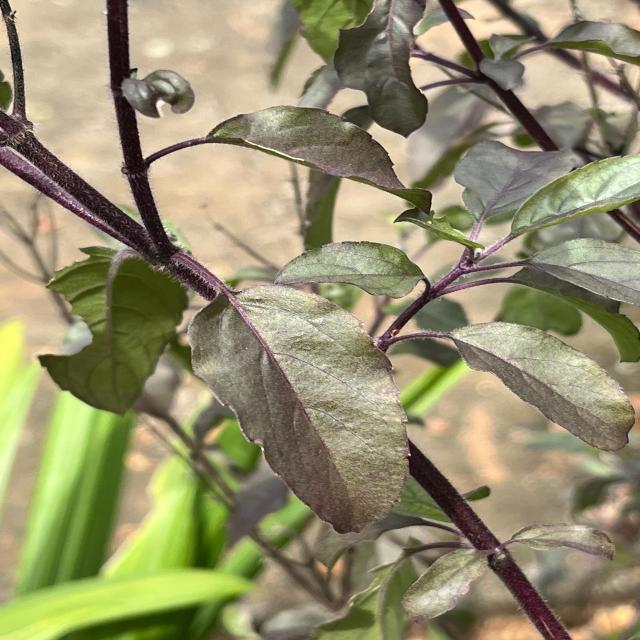Ocimum tenuiflorum: (185, 282, 416, 538)
